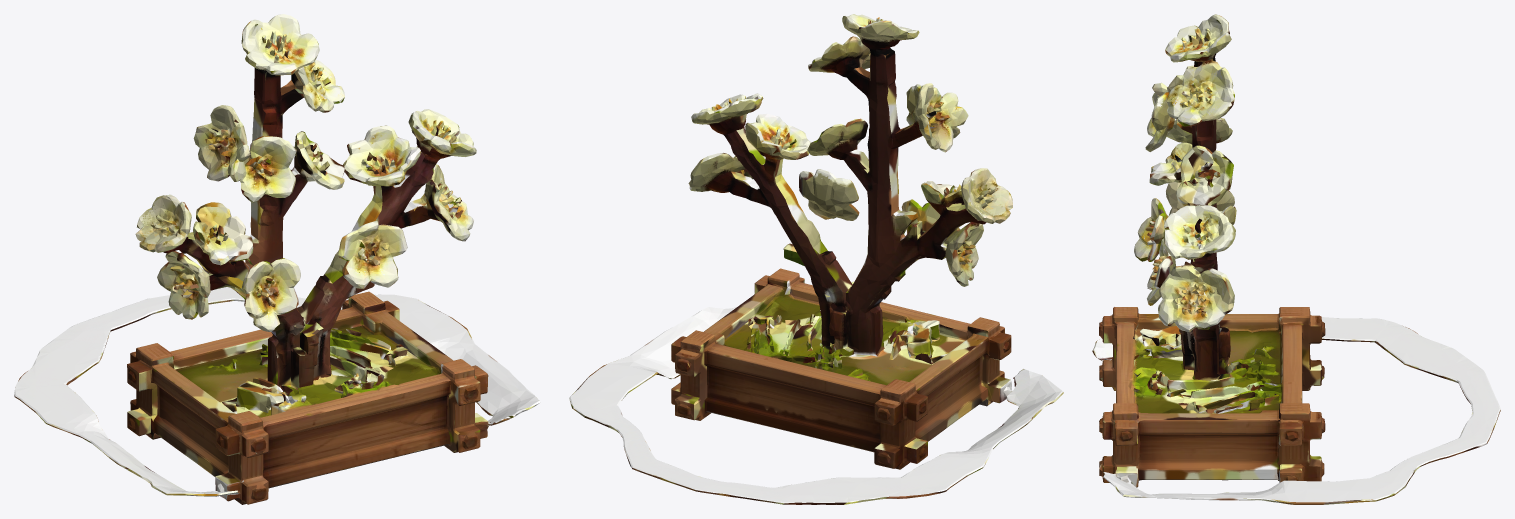
File: traveler_env_coast_ojatara_flower_planter_00001_.glb
The picture shows the model from 3 angles, left to right: view 1: azimuth 30°, elevation 25°; view 2: azimuth 150°, elevation 25°; view 3: azimuth 270°, elevation 25°; orthographic projection. The views are drawn at different scales.
Parts seen in each view (by area): view 1: temp_mesh.ply; view 2: temp_mesh.ply; view 3: temp_mesh.ply.
Boxes of the visible parts, x1,y1,x2,y2 form: temp_mesh.ply: (14, 14, 540, 504); temp_mesh.ply: (569, 14, 1063, 504); temp_mesh.ply: (1092, 14, 1500, 504).
Size of the model in its own units: 1.81 by 1.78 by 1.67.
Materials: 1 (1 with a texture image).
